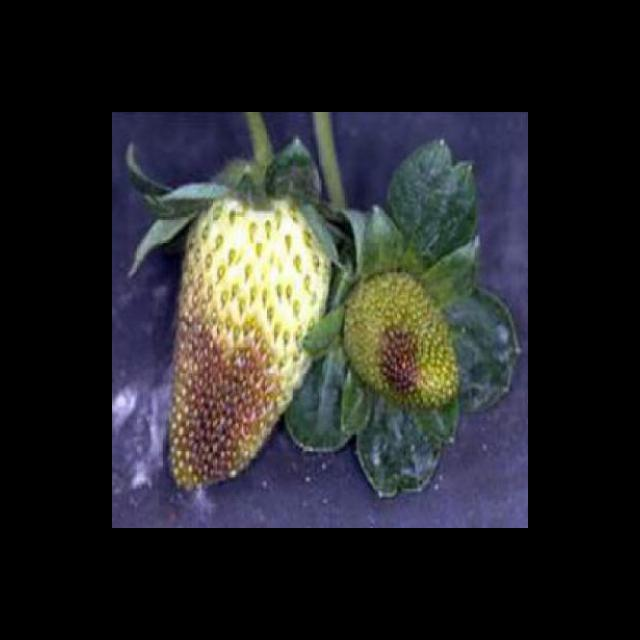Anthracnose Fruit Rot: (168, 268, 282, 487), (378, 317, 429, 404)
